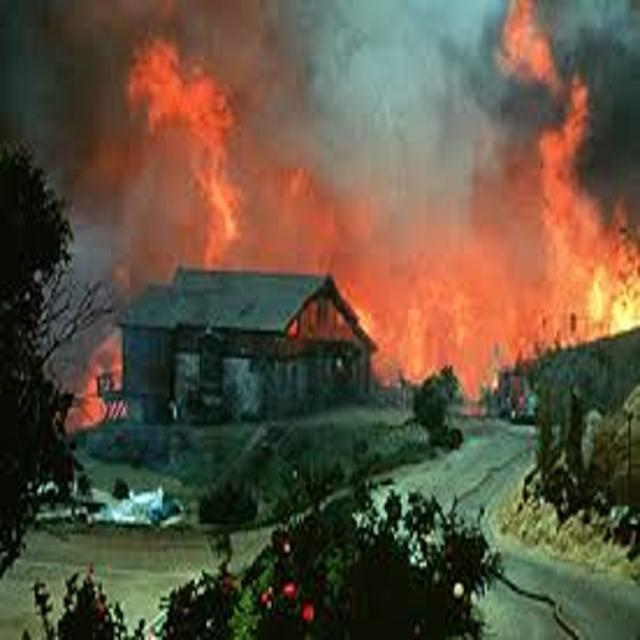Fire: (497, 0, 640, 239), (121, 39, 262, 272), (345, 287, 580, 379), (70, 328, 132, 429), (586, 242, 640, 344)
Smoke: (271, 0, 497, 272)
